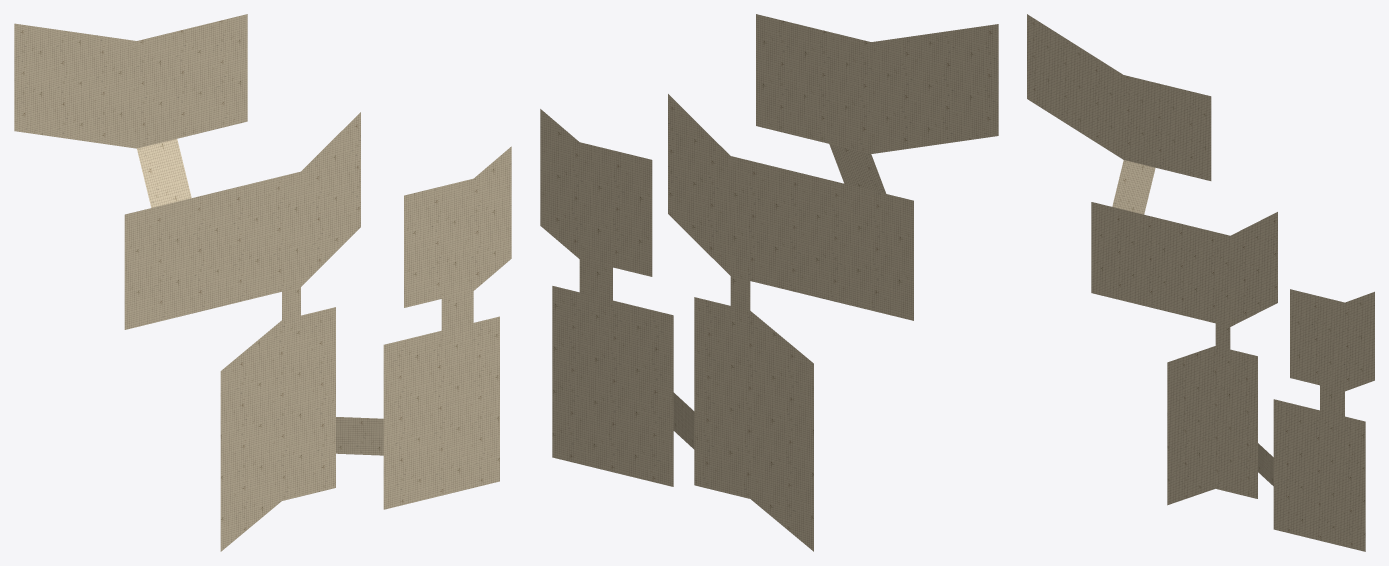
The model's file is floor.fbx.
3 views of the same model, side by side, from view 1: azimuth 30°, elevation 25°; view 2: azimuth 150°, elevation 25°; view 3: azimuth 330°, elevation 25° (orthographic). The views are drawn at different scales.
Parts seen in each view (by area): view 1: Plane.002; view 2: Plane.002; view 3: Plane.002.
Boxes of the visible parts, x1,y1,x2,y2 form: Plane.002: [14, 14, 511, 551]; Plane.002: [540, 14, 998, 551]; Plane.002: [1027, 14, 1374, 551].
Bounding box in the file's own units: 22082 × 19183 × 2008.
